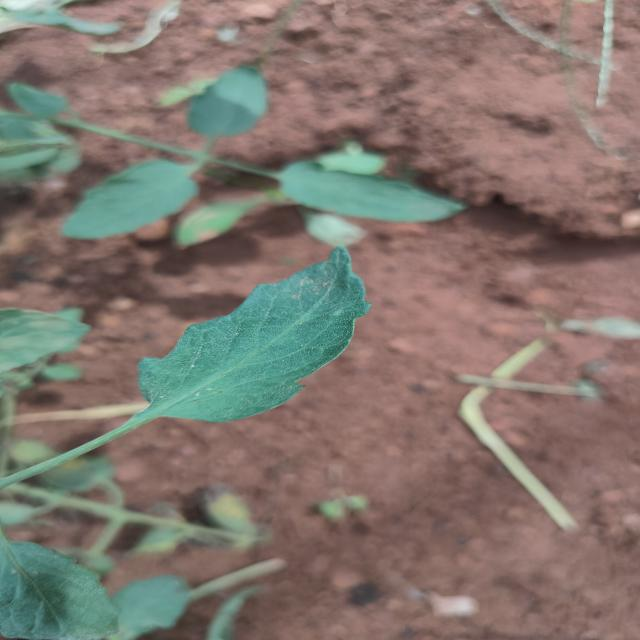tomato_healthy: (0, 247, 370, 488), (279, 160, 465, 222), (61, 159, 197, 239)
